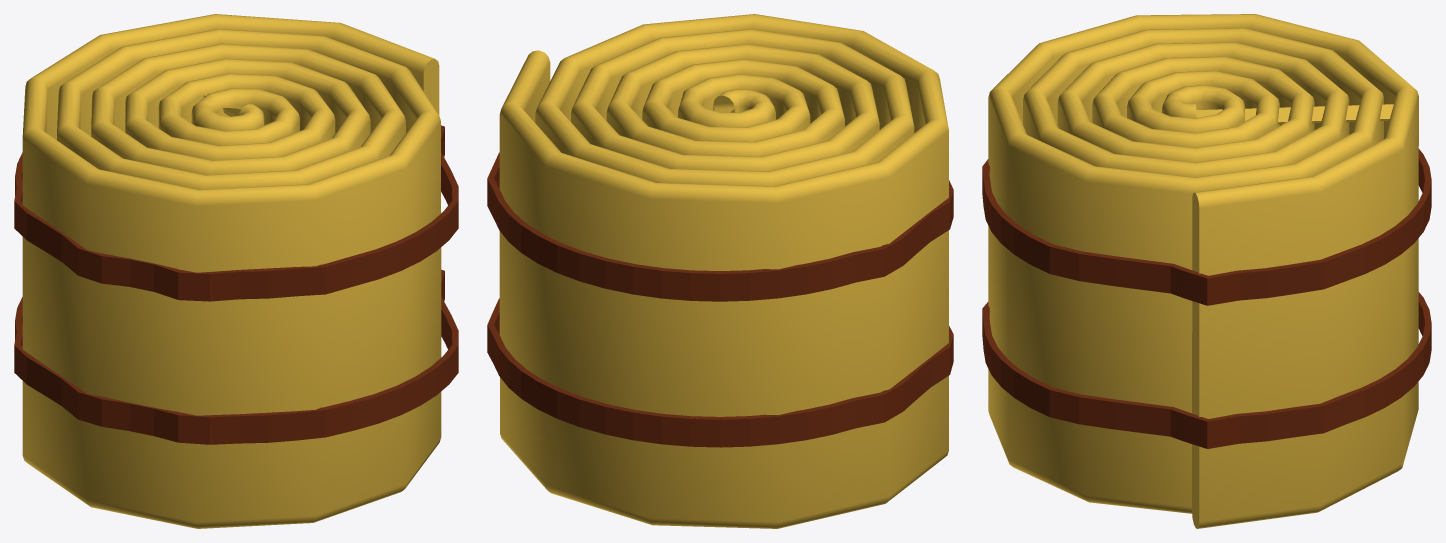
Rendered from obj_haystack1.fbx.
3 views of the same model, side by side, from view 1: azimuth 30°, elevation 25°; view 2: azimuth 150°, elevation 25°; view 3: azimuth 270°, elevation 25° (orthographic).
Visible parts, largest first — view 1: Obj_Haystack1; view 2: Obj_Haystack1; view 3: Obj_Haystack1.
Part boxes in pixels (bbox=[...]): Obj_Haystack1: bbox=[14, 14, 458, 528]; Obj_Haystack1: bbox=[487, 14, 953, 528]; Obj_Haystack1: bbox=[982, 14, 1431, 528].
Size of the model in its own units: 355 by 284 by 346.
